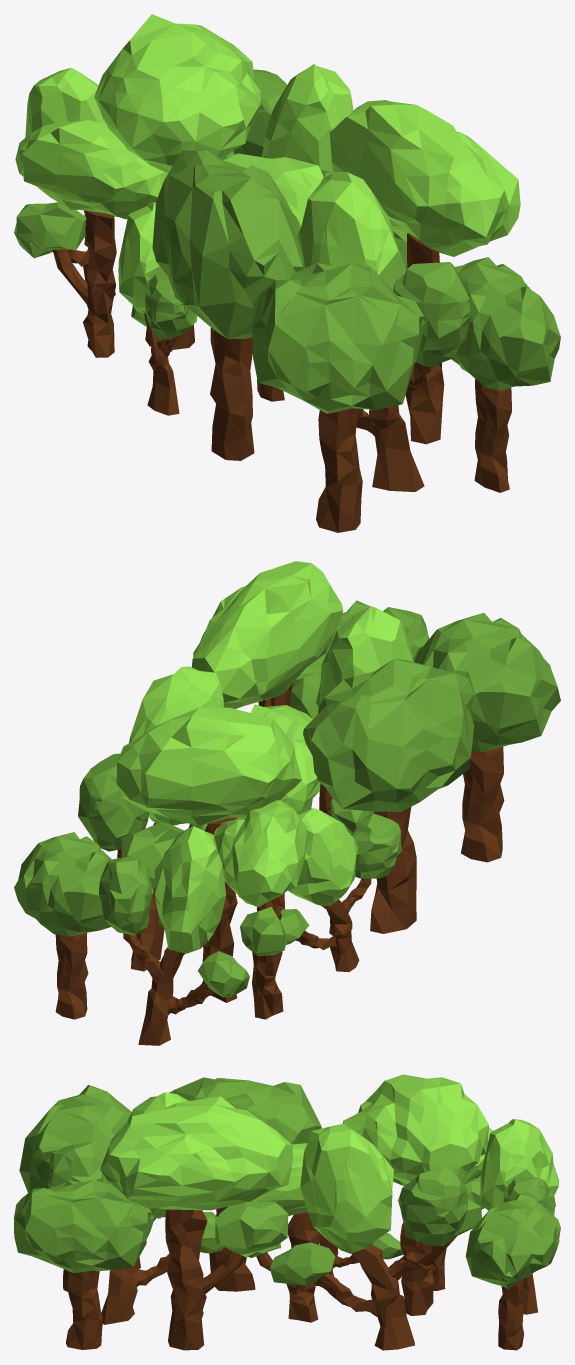
The model's file is las_chunk1.fbx.
3 renders of one model, top to bottom at view 1: azimuth 30°, elevation 25°; view 2: azimuth 150°, elevation 25°; view 3: azimuth 270°, elevation 25°, orthographic. The views are drawn at different scales.
Visible parts, largest first — view 1: tree S.004, tree S.003, tree M.001, tree M.003, tree M.004, tree L.002, tree S.001, tree L.001, tree L.004, tree L.003, tree M.002; view 2: tree S.003, tree M.003, tree S.004, tree L.003, tree M.001, tree M.004, tree L.004, tree S.002, tree L.001, tree L.002, tree M.002, tree S.001; view 3: tree M.001, tree L.001, tree M.003, tree S.001, tree S.002, tree L.003, tree S.003, tree S.004, tree L.002, tree M.002, tree M.004, tree L.004.
Part boxes in pixels (bbox=[...]): tree S.004: bbox=[252, 262, 424, 532]; tree S.003: bbox=[152, 150, 304, 460]; tree M.001: bbox=[329, 100, 520, 444]; tree M.003: bbox=[94, 14, 260, 349]; tree M.004: bbox=[15, 120, 168, 357]; tree L.002: bbox=[297, 172, 471, 491]; tree S.001: bbox=[451, 257, 560, 492]; tree L.001: bbox=[233, 63, 353, 176]; tree L.004: bbox=[118, 202, 196, 415]; tree L.003: bbox=[14, 68, 115, 296]; tree M.002: bbox=[223, 153, 323, 401]; tree S.003: bbox=[303, 659, 474, 933]; tree M.003: bbox=[116, 707, 301, 1002]; tree S.004: bbox=[414, 613, 560, 862]; tree L.003: bbox=[99, 826, 249, 1045]; tree M.001: bbox=[191, 561, 343, 708]; tree M.004: bbox=[214, 800, 307, 1019]; tree L.004: bbox=[280, 808, 401, 972]; tree S.002: bbox=[14, 832, 111, 1019]; tree L.001: bbox=[78, 666, 224, 971]; tree L.002: bbox=[316, 606, 428, 833]; tree M.002: bbox=[250, 704, 320, 911]; tree S.001: bbox=[290, 600, 369, 816]; tree M.001: bbox=[100, 1096, 292, 1350]; tree L.001: bbox=[270, 1124, 468, 1350]; tree M.003: bbox=[343, 1074, 488, 1315]; tree S.001: bbox=[14, 1179, 154, 1349]; tree S.002: bbox=[465, 1193, 560, 1350]; tree L.003: bbox=[480, 1119, 558, 1314]; tree S.003: bbox=[169, 1077, 321, 1291]; tree S.004: bbox=[19, 1085, 131, 1291]; tree L.002: bbox=[48, 1092, 223, 1324]; tree M.002: bbox=[227, 1143, 319, 1322]; tree M.004: bbox=[393, 1128, 492, 1290]; tree L.004: bbox=[315, 1233, 403, 1285].
Size of the model in its own units: 572 by 584 by 1218.
